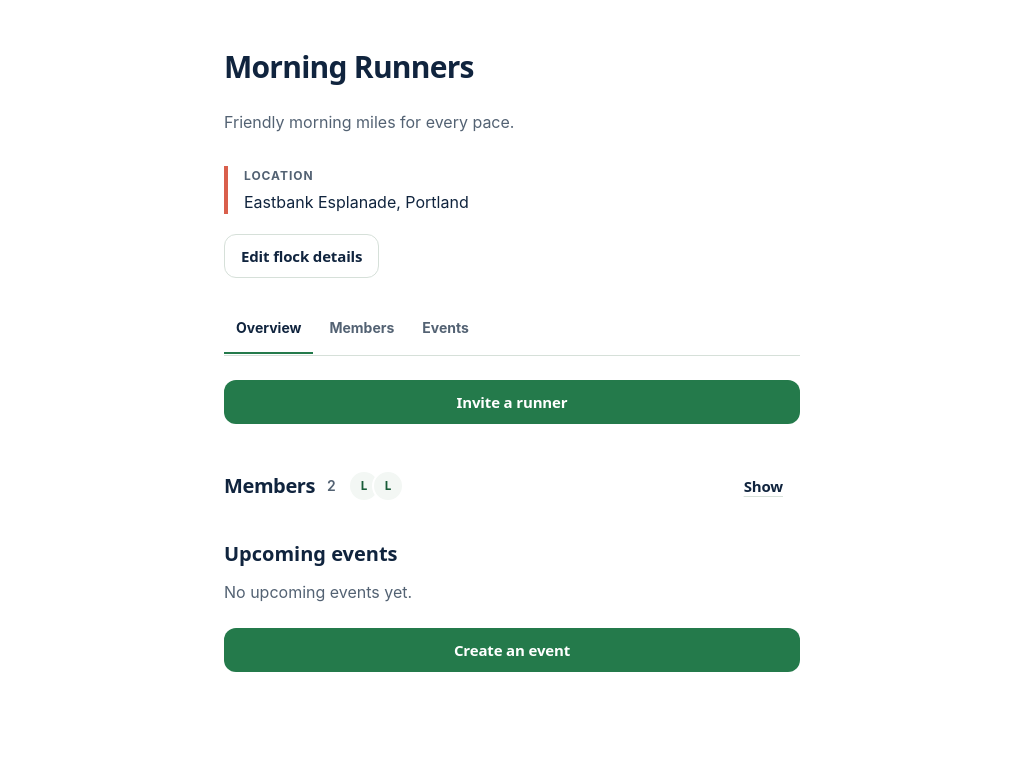
Test: FlockDetailRoute › opens invitation creation for the visible flock
Click the button "Invite a runner": {"x": 512, "y": 402} x1=224 y1=380 x2=800 y2=424
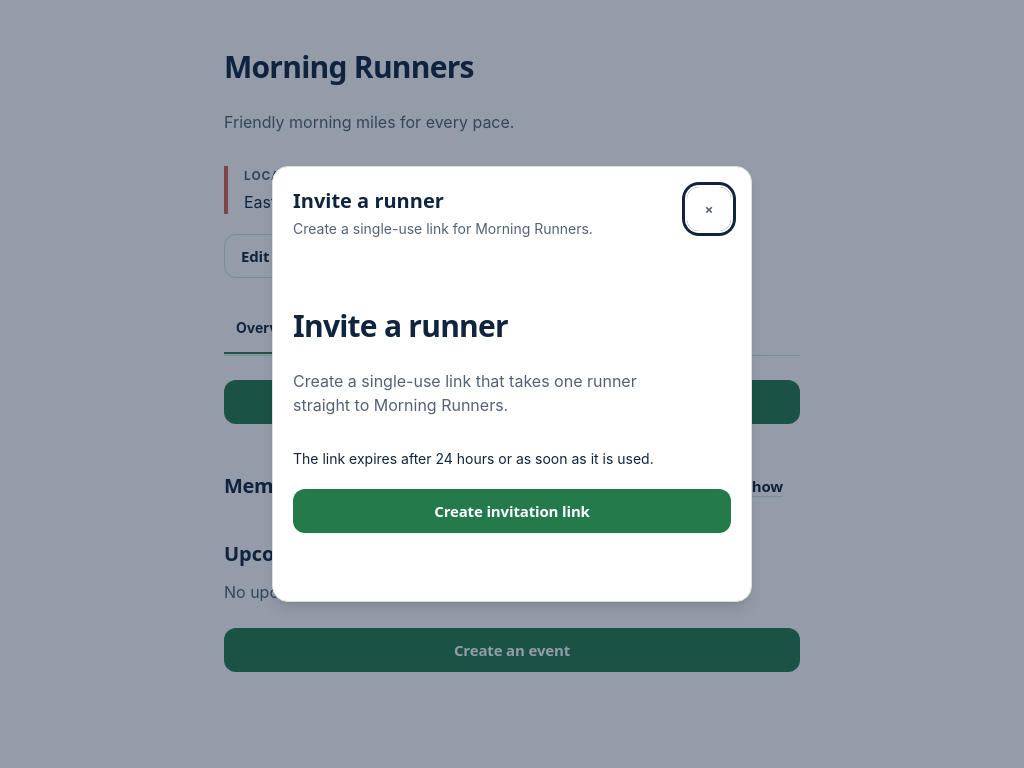
expect the dialog is shown: met
expect the button "Create invitation link" is shown: met, box x1=293 y1=489 x2=731 y2=533
